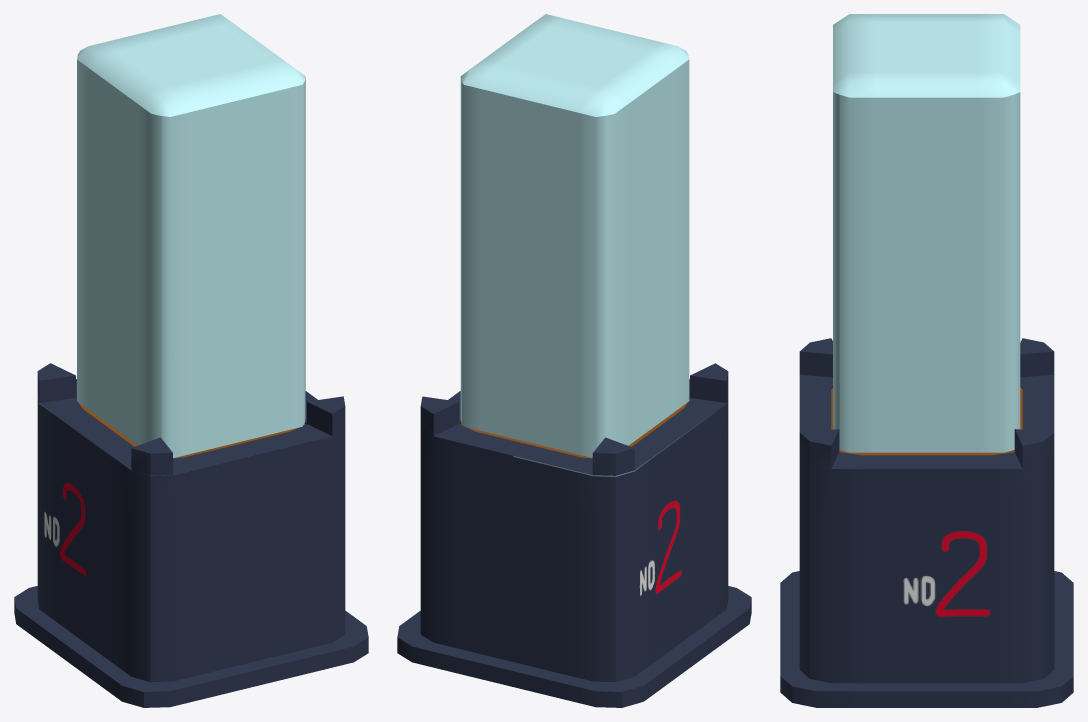
The model's file is plant 2 export.fbx.
The picture shows the model from 3 angles, left to right: view 1: azimuth 30°, elevation 25°; view 2: azimuth 150°, elevation 25°; view 3: azimuth 270°, elevation 25°; orthographic projection. The views are drawn at different scales.
Visible parts, largest first — view 1: plant_glass_2_container, plant_pot_2; view 2: plant_glass_2_container, plant_pot_2, Soil_2; view 3: plant_glass_2_container, plant_pot_2, Soil_2.
Part boxes in pixels (<box>): plant_glass_2_container: <box>77,14,305,458</box>; plant_pot_2: <box>14,363,368,707</box>; plant_glass_2_container: <box>460,14,689,457</box>; plant_pot_2: <box>397,363,751,707</box>; Soil_2: <box>461,403,686,458</box>; plant_glass_2_container: <box>833,14,1020,452</box>; plant_pot_2: <box>780,338,1073,707</box>; Soil_2: <box>831,387,1022,455</box>.
Bounding box in the file's own units: 2.3 × 5.18 × 2.3.
